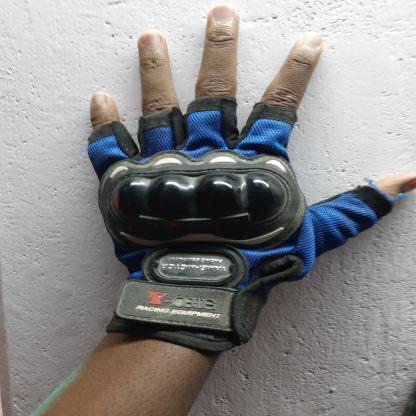gloved_hand: (77, 95, 391, 364)
